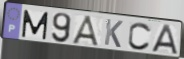9: (51, 12, 73, 44)
A: (71, 15, 102, 48), (151, 23, 179, 55)
C: (127, 21, 153, 52)
K: (103, 18, 124, 49)
M: (21, 9, 50, 41)
